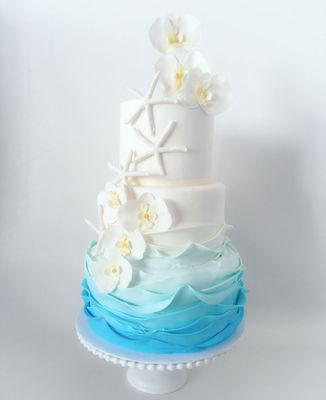sushi: (78, 170, 250, 361)
